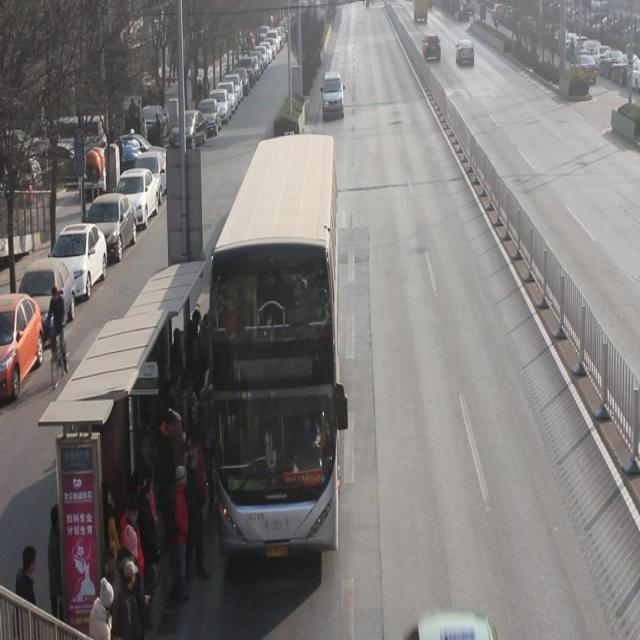car: (422, 32, 441, 64), (456, 38, 475, 67)
truck: (323, 70, 344, 121)
van: (212, 128, 338, 538)
